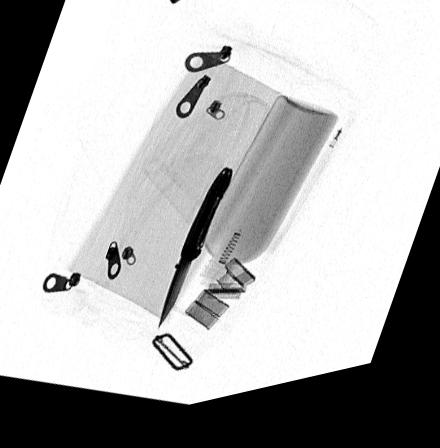Knife: (157, 176, 233, 336)
